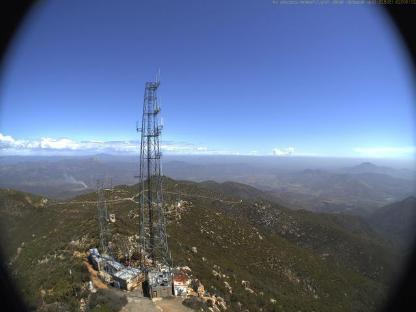smoke: (50, 167, 90, 191)
